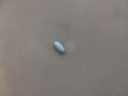Apranax: (53, 40, 66, 54)
